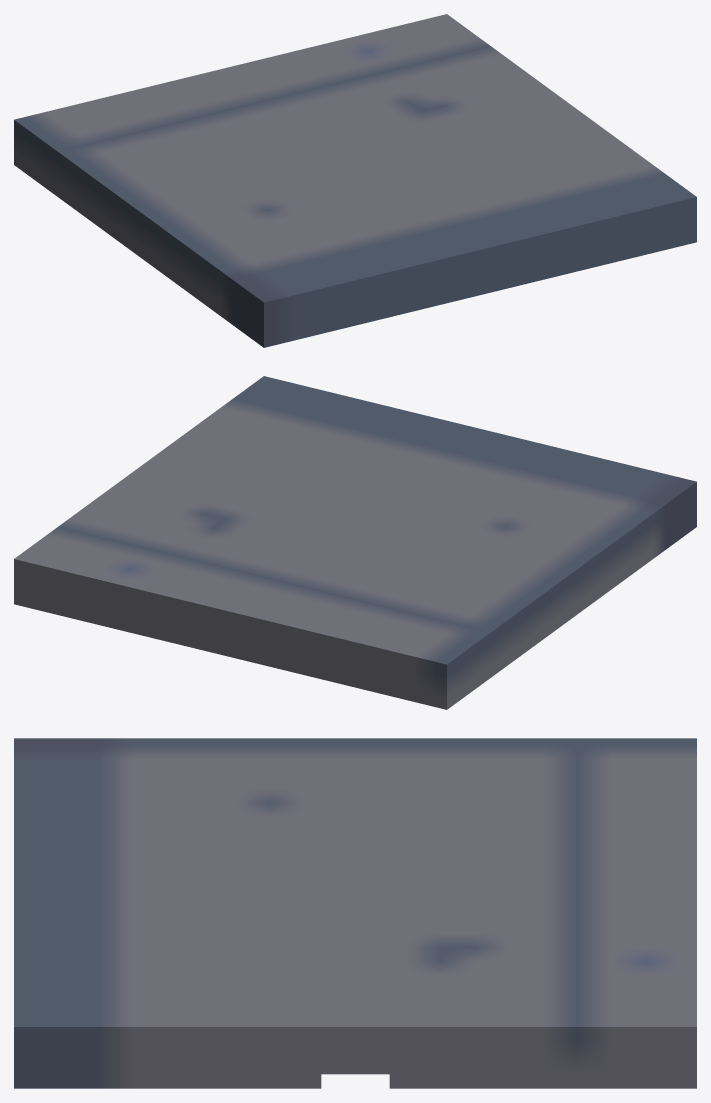
File: Sidewalk_Chunk.fbx
3 views of the same model, one above another, from view 1: azimuth 30°, elevation 25°; view 2: azimuth 150°, elevation 25°; view 3: azimuth 270°, elevation 25° (orthographic). The views are drawn at different scales.
Visible parts, largest first — view 1: Sidewalk_Chunk; view 2: Sidewalk_Chunk; view 3: Sidewalk_Chunk.
Part boxes in pixels (left/top/right/bottom): Sidewalk_Chunk: left=14, top=14, right=696, bottom=347; Sidewalk_Chunk: left=14, top=376, right=696, bottom=709; Sidewalk_Chunk: left=14, top=738, right=696, bottom=1088.
Size of the model in its own units: 200 by 20 by 200.
